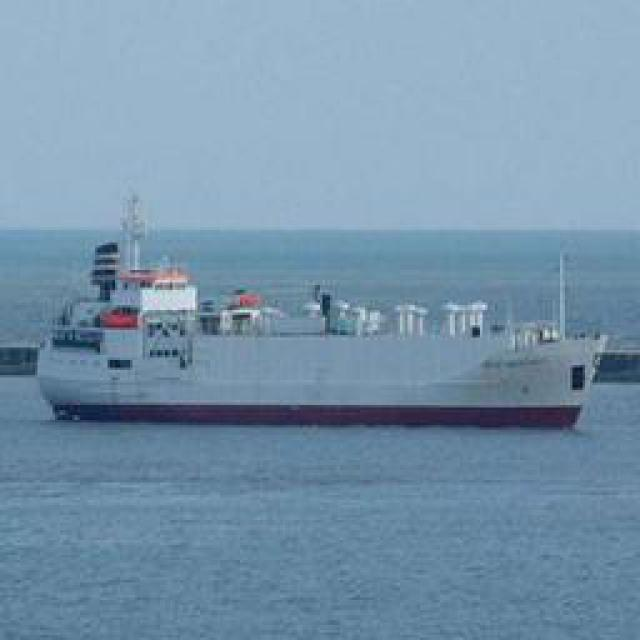Ship: (34, 233, 614, 428)
